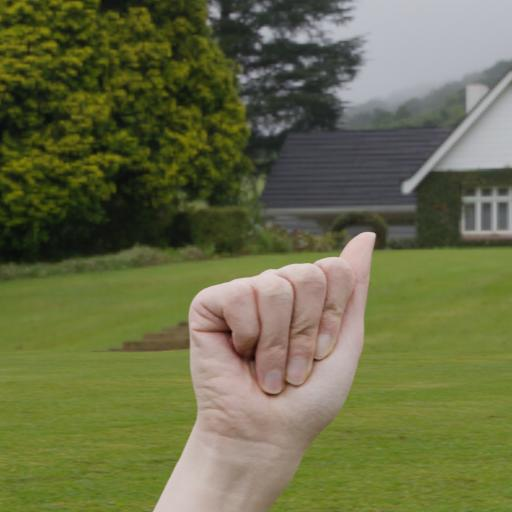A: (172, 224, 397, 448)
